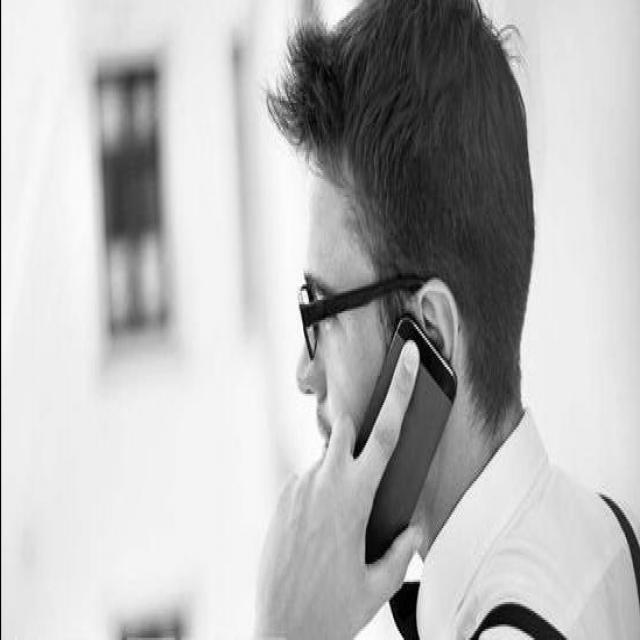phone: (268, 228, 469, 622)
